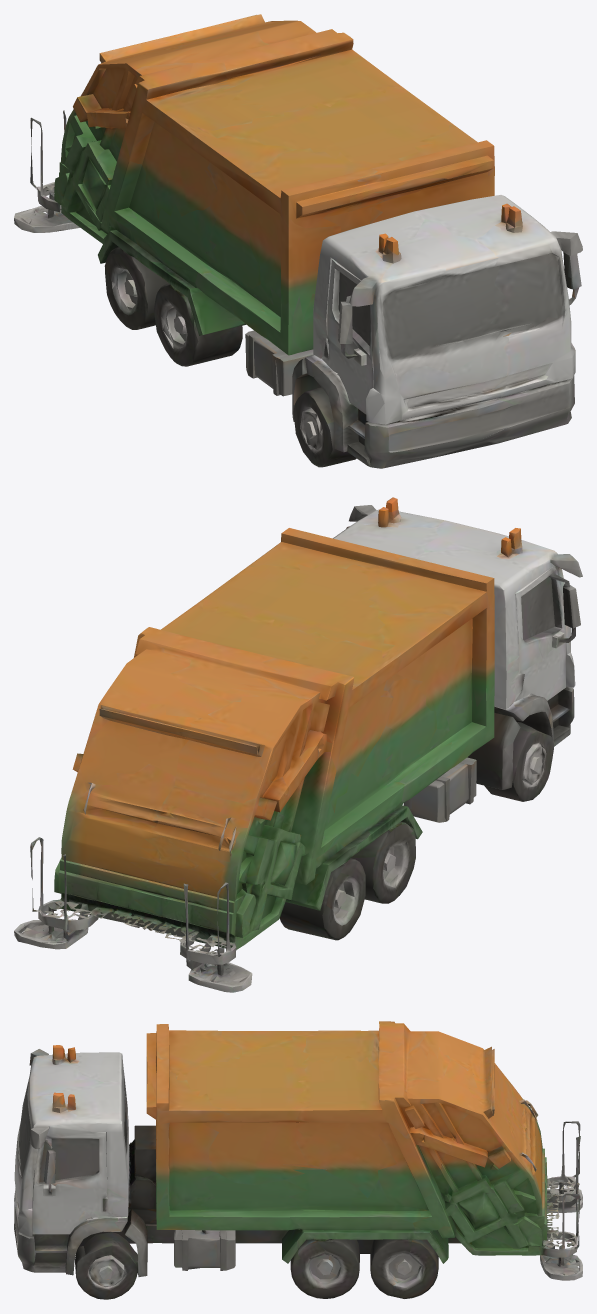
The model's file is caminhao_lixo.glb.
3 renders of one model, top to bottom at view 1: azimuth 30°, elevation 25°; view 2: azimuth 150°, elevation 25°; view 3: azimuth 270°, elevation 25°, orthographic. The views are drawn at different scales.
Visible parts, largest first — view 1: tripo_node_4bee8162-1290-4120-a062-6098f3d14a5a; view 2: tripo_node_4bee8162-1290-4120-a062-6098f3d14a5a; view 3: tripo_node_4bee8162-1290-4120-a062-6098f3d14a5a.
Boxes of the visible parts, x1=… form: tripo_node_4bee8162-1290-4120-a062-6098f3d14a5a: x1=14, y1=14, x2=582, y2=468; tripo_node_4bee8162-1290-4120-a062-6098f3d14a5a: x1=14, y1=497, x2=582, y2=992; tripo_node_4bee8162-1290-4120-a062-6098f3d14a5a: x1=14, y1=1021, x2=582, y2=1299.
Size of the model in its own units: 3.26 by 3.2 by 8.39.
Materials: 1 (1 with a texture image).
